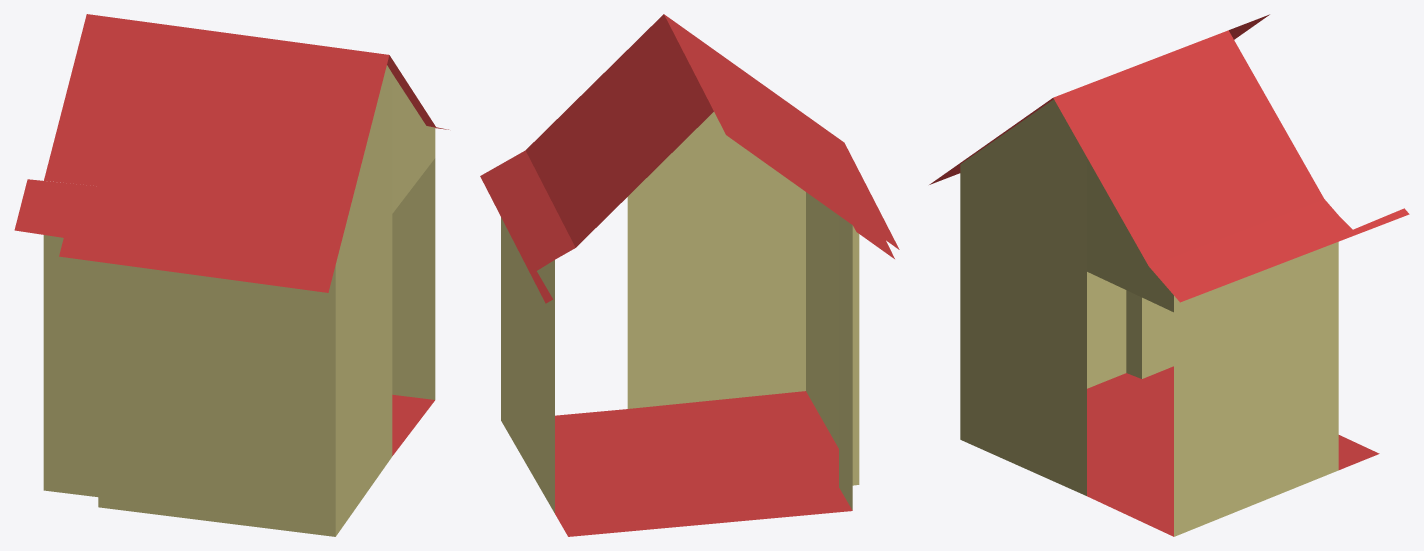
3 views of the same model, side by side, from view 1: azimuth 30°, elevation 25°; view 2: azimuth 150°, elevation 25°; view 3: azimuth 270°, elevation 25° (orthographic). The views are drawn at different scales.
Size of the model in its own units: 14.94 by 15.16 by 13.51.
